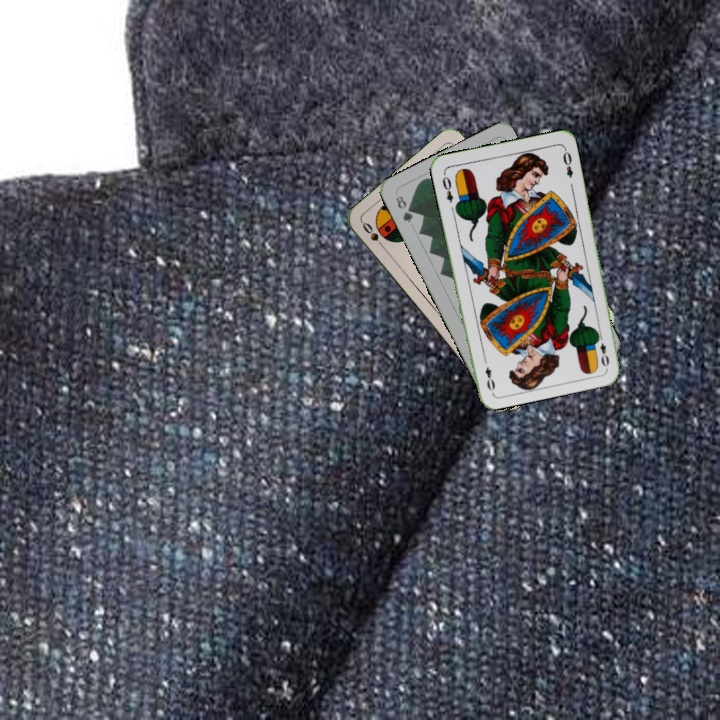EO: (593, 329, 612, 369), (438, 169, 456, 205)
G8: (392, 192, 416, 226)
SO: (358, 218, 388, 252)
